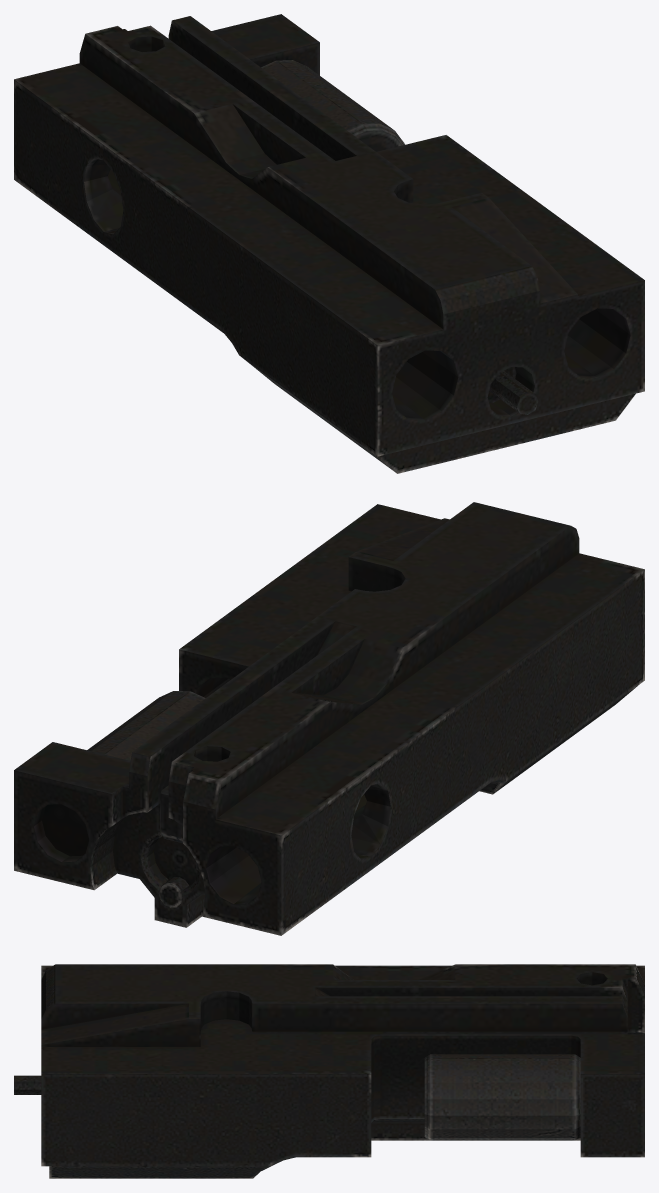
3 renders of one model, top to bottom at view 1: azimuth 30°, elevation 25°; view 2: azimuth 150°, elevation 25°; view 3: azimuth 270°, elevation 25°, orthographic. The views are drawn at different scales.
Parts seen in each view (by area): view 1: TW_5cc82d76e24e8d00134b4b83_PZ_Import; view 2: TW_5cc82d76e24e8d00134b4b83_PZ_Import; view 3: TW_5cc82d76e24e8d00134b4b83_PZ_Import.
Part boxes in pixels (box(x1,y1,x2,y2)): TW_5cc82d76e24e8d00134b4b83_PZ_Import: box(14, 14, 644, 473); TW_5cc82d76e24e8d00134b4b83_PZ_Import: box(14, 502, 644, 935); TW_5cc82d76e24e8d00134b4b83_PZ_Import: box(14, 964, 644, 1178).
Size of the model in its own units: 0.024 by 0.0591 by 0.0149.
1 material, 1 textured.
